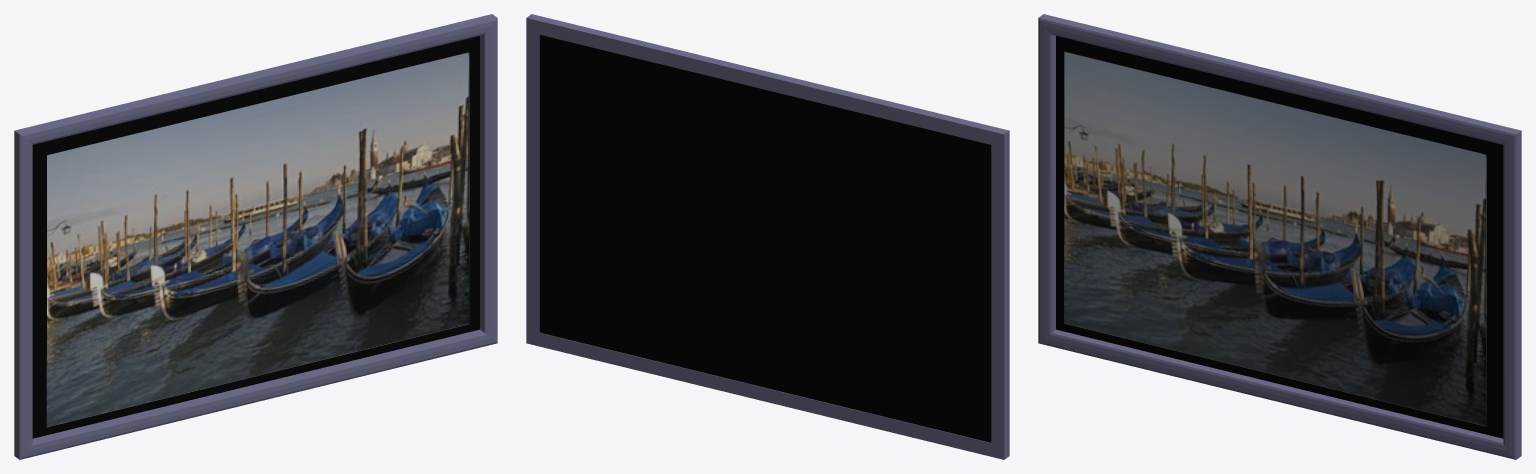
File: VeniceFrame.obj
The picture shows the model from 3 angles, left to right: view 1: azimuth 30°, elevation 25°; view 2: azimuth 150°, elevation 25°; view 3: azimuth 330°, elevation 25°; orthographic projection.
Visible parts, largest first — view 1: Photo_Cube_Material_Venice.jpg, MetalFrame_Cylinder_Aluminium.013, Frame_Black_Material.017; view 2: Frame_Black_Material.017, MetalFrame_Cylinder_Aluminium.013; view 3: Photo_Cube_Material_Venice.jpg, MetalFrame_Cylinder_Aluminium.013, Frame_Black_Material.017.
Boxes of the visible parts, x1,y1,x2,y2 form: Photo_Cube_Material_Venice.jpg: (46, 52, 469, 427); MetalFrame_Cylinder_Aluminium.013: (14, 14, 497, 459); Frame_Black_Material.017: (32, 36, 479, 438); Frame_Black_Material.017: (539, 35, 991, 442); MetalFrame_Cylinder_Aluminium.013: (526, 14, 1009, 459); Photo_Cube_Material_Venice.jpg: (1064, 51, 1486, 426); MetalFrame_Cylinder_Aluminium.013: (1038, 14, 1521, 459); Frame_Black_Material.017: (1056, 36, 1503, 438).
Bounding box in the file's own units: 73.53 × 47.86 × 1.6.
Materials: 3 (1 with a texture image).
